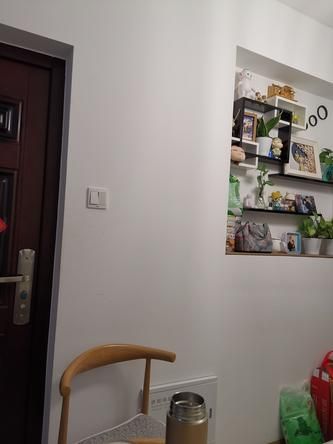switch: (101, 191, 112, 209), (89, 189, 98, 207)
